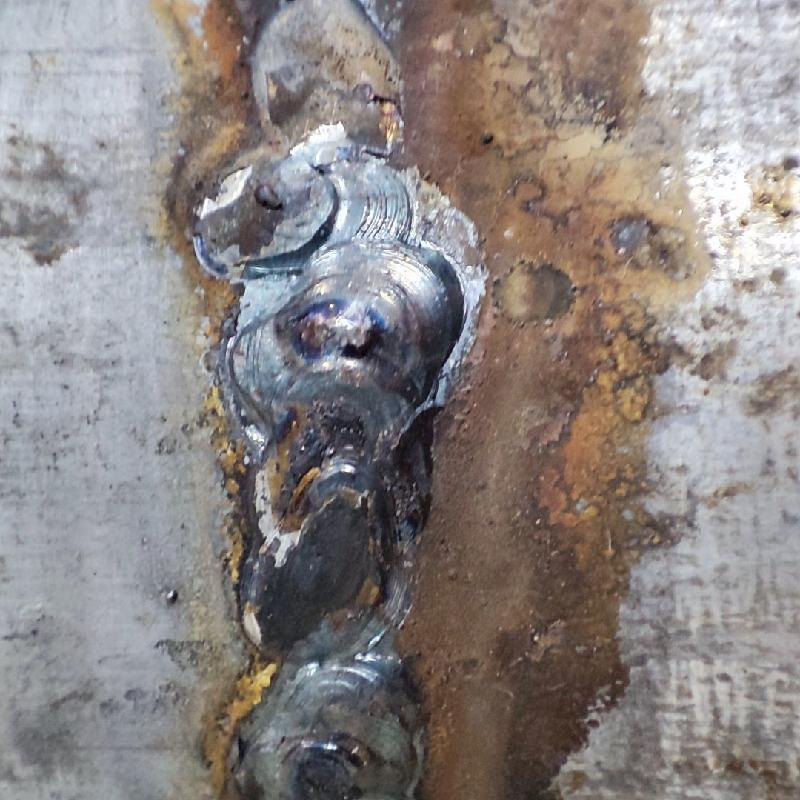Not_fully_soldered: (201, 1, 417, 250)
wrong_size: (207, 255, 453, 798)
